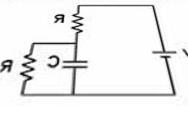resistor: (17, 51, 40, 82), (68, 11, 85, 37)
